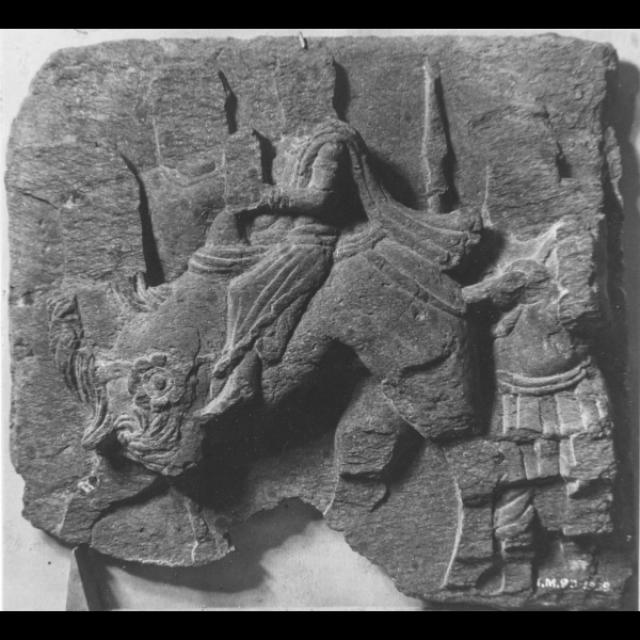buddha-horse-riding: (80, 54, 480, 477)
